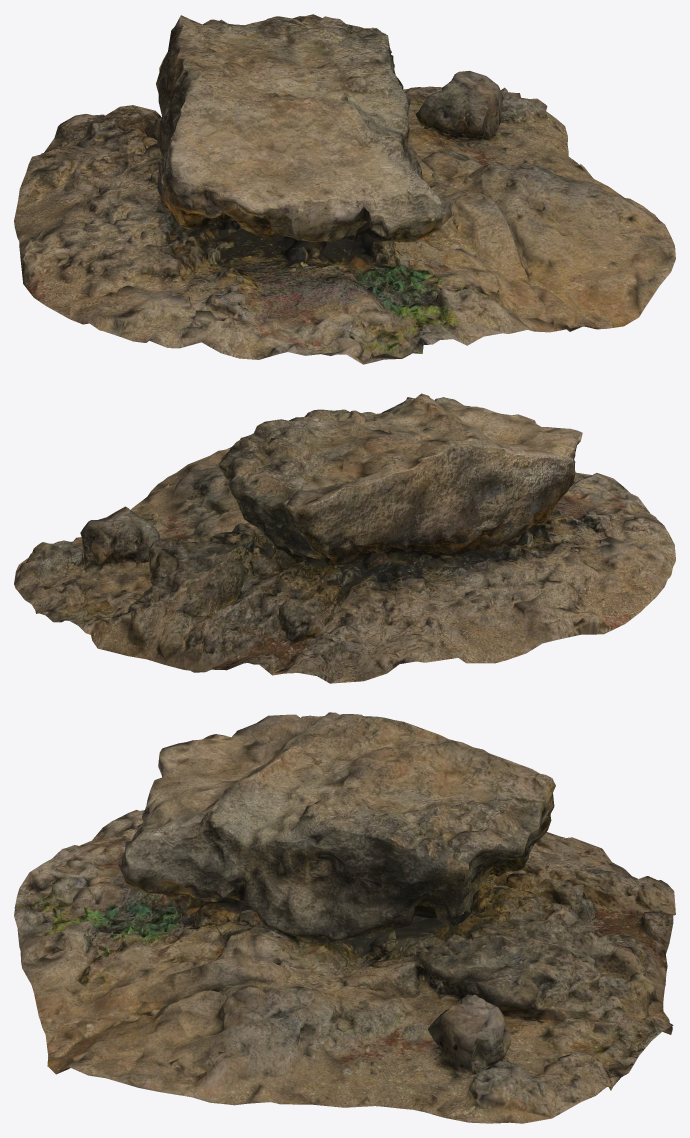
Rendered from coast_rocks_05.glb.
3 views of the same model, one above another, from view 1: azimuth 30°, elevation 25°; view 2: azimuth 150°, elevation 25°; view 3: azimuth 270°, elevation 25° (orthographic). The views are drawn at different scales.
Parts seen in each view (by area): view 1: coast_rocks_05; view 2: coast_rocks_05; view 3: coast_rocks_05.
Part boxes in pixels (box(x1,y1,x2,y2)): coast_rocks_05: box(14, 14, 675, 364); coast_rocks_05: box(14, 393, 675, 683); coast_rocks_05: box(14, 712, 675, 1123).
Bounding box in the file's own units: 4.04 × 1.33 × 3.75.
Materials: 1 (1 with a texture image).
